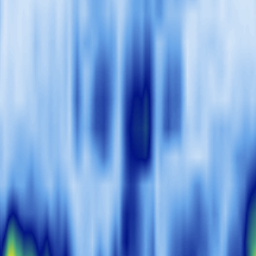defect: (121, 36, 153, 256), (1, 192, 66, 256), (91, 62, 112, 153), (172, 207, 207, 256), (238, 165, 256, 256), (163, 82, 171, 138)
